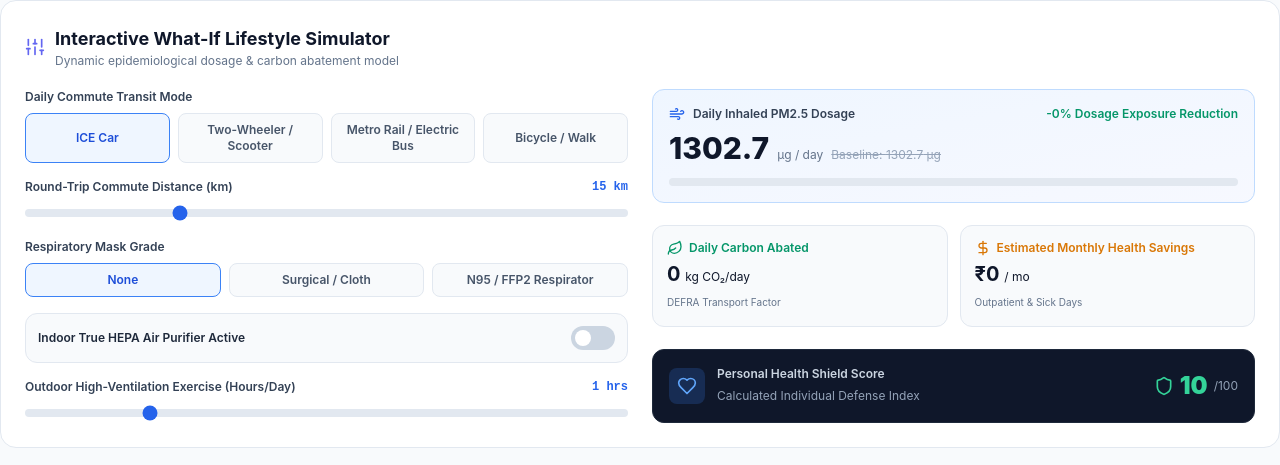
WhatIfSimulator Interactions & State Transitions › toggles HEPA air purifier on and off
Step 1. Click the switch named "Indoor True HEPA Air Purifier Active" → coordinates (593, 338), box x1=571 y1=326 x2=615 y2=350
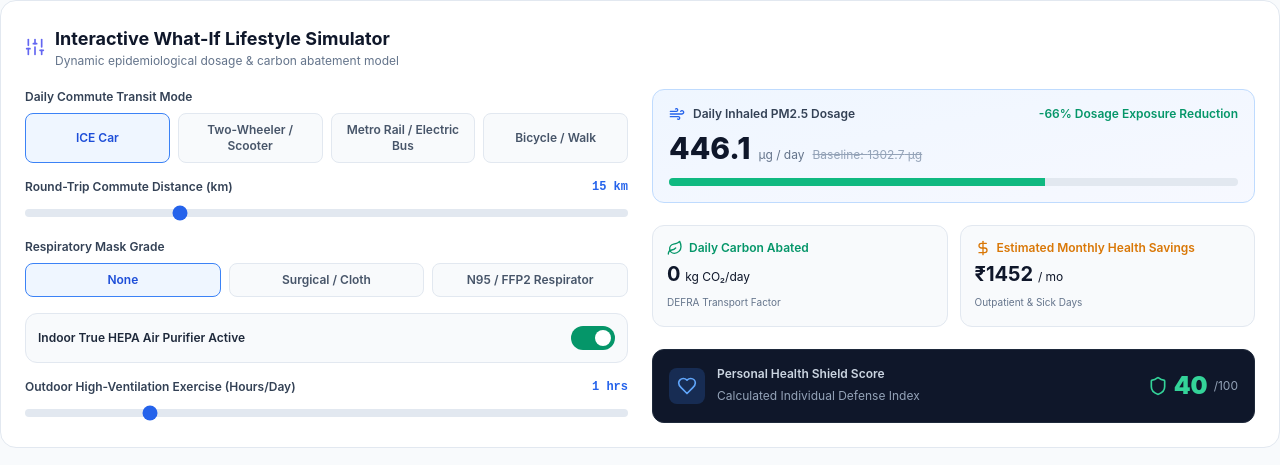
Expected: the switch named "Indoor True HEPA Air Purifier Active" is checked
Step 2. Click the switch named "Indoor True HEPA Air Purifier Active" → coordinates (593, 338), box x1=571 y1=326 x2=615 y2=350
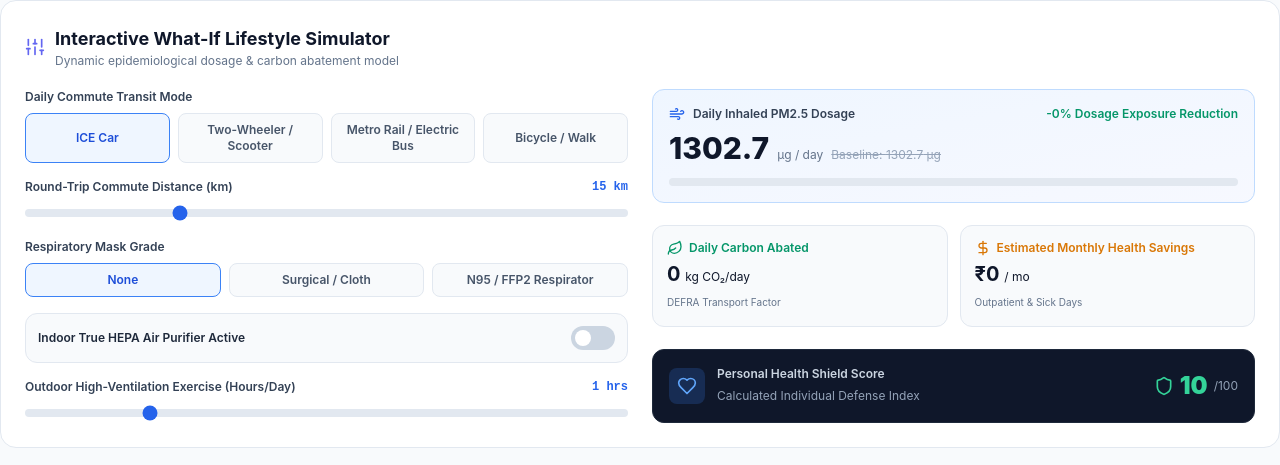
Expected: the switch named "Indoor True HEPA Air Purifier Active" is not checked, x1=571 y1=326 x2=615 y2=350
